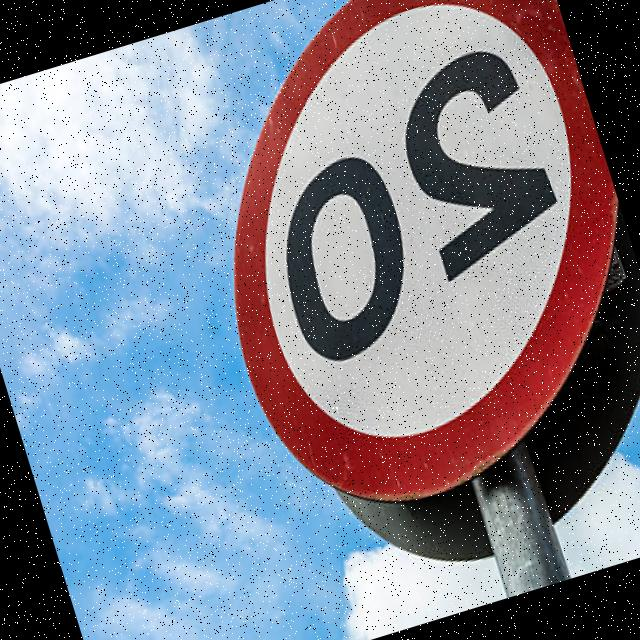speed_limit_20: (133, 0, 640, 539)
